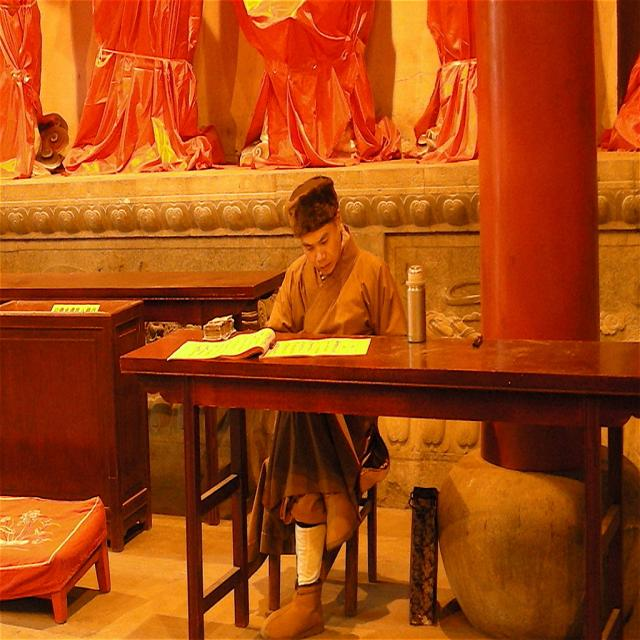chair: (255, 450, 378, 632)
desk: (120, 330, 640, 640)
person: (254, 167, 407, 640)
